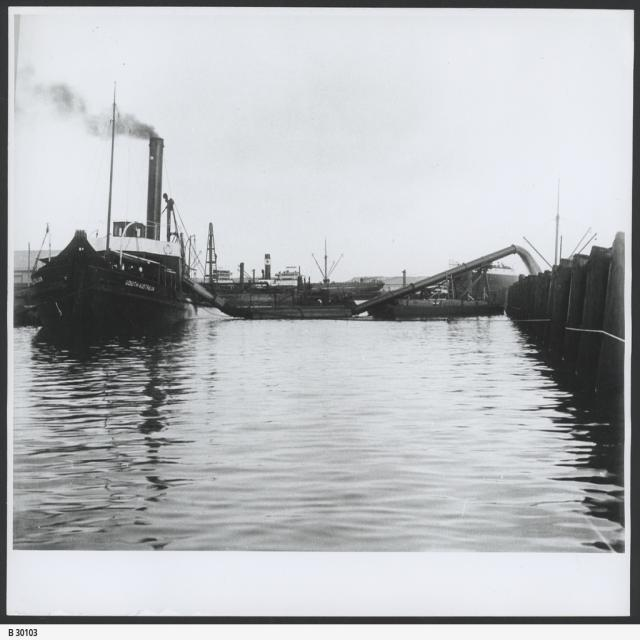Boat: (25, 85, 192, 348), (188, 270, 364, 319), (375, 286, 500, 325)
